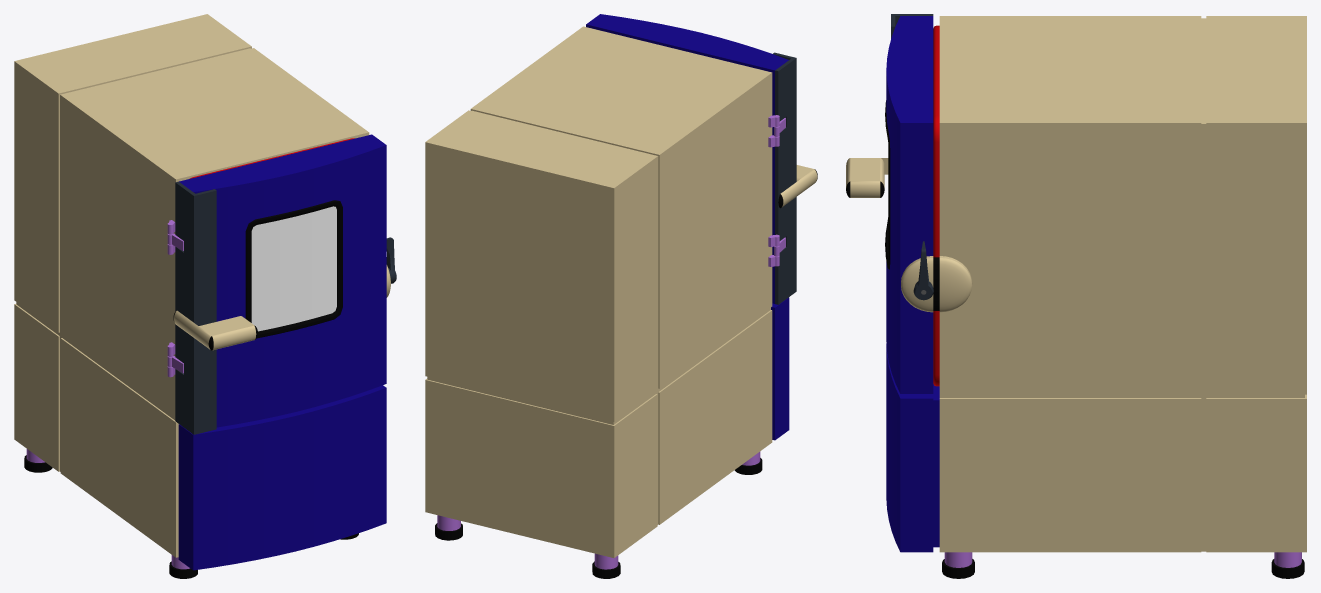
File: weiss_wk11_v1.fbx
The picture shows the model from 3 angles, left to right: view 1: azimuth 30°, elevation 25°; view 2: azimuth 150°, elevation 25°; view 3: azimuth 270°, elevation 25°; orthographic projection. The views are drawn at different scales.
Parts seen in each view (by area): view 1: oven_body, oven_door, oven_window, oven_pad; view 2: oven_body, oven_door, oven_pad; view 3: oven_body, oven_door, oven_pad, oven_handle.
Part boxes in pixels (box(x1,y1,x2,y2)): oven_body: box(14, 14, 386, 578); oven_door: box(167, 134, 390, 434); oven_window: box(251, 206, 336, 331); oven_pad: box(173, 310, 257, 350); oven_body: box(425, 26, 789, 578); oven_door: box(586, 14, 796, 304); oven_pad: box(778, 165, 817, 208); oven_body: box(886, 16, 1306, 578); oven_door: box(885, 14, 936, 393); oven_pad: box(846, 158, 888, 197); oven_handle: box(913, 241, 933, 300).
Bounding box in the file's own units: 113 × 200 × 182.
